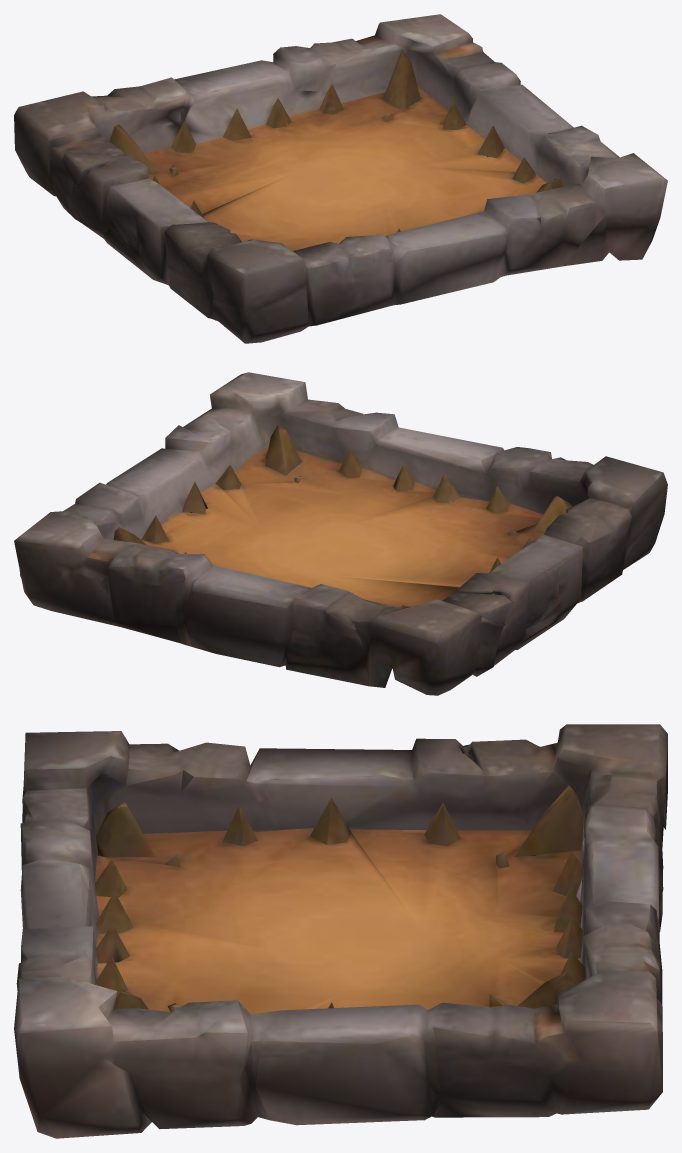
The model's file is lg-dungeon-spikes.glb.
The picture shows the model from 3 angles, top to bottom: view 1: azimuth 30°, elevation 25°; view 2: azimuth 150°, elevation 25°; view 3: azimuth 270°, elevation 25°; orthographic projection. The views are drawn at different scales.
Visible parts, largest first — view 1: geometry_0; view 2: geometry_0; view 3: geometry_0.
Boxes of the visible parts, x1=… form: geometry_0: x1=14, y1=14, x2=667, y2=343; geometry_0: x1=14, y1=372, x2=667, y2=695; geometry_0: x1=14, y1=724, x2=667, y2=1138.
Size of the model in its own units: 1 by 0.2099 by 0.9317.
1 material, 1 textured.
